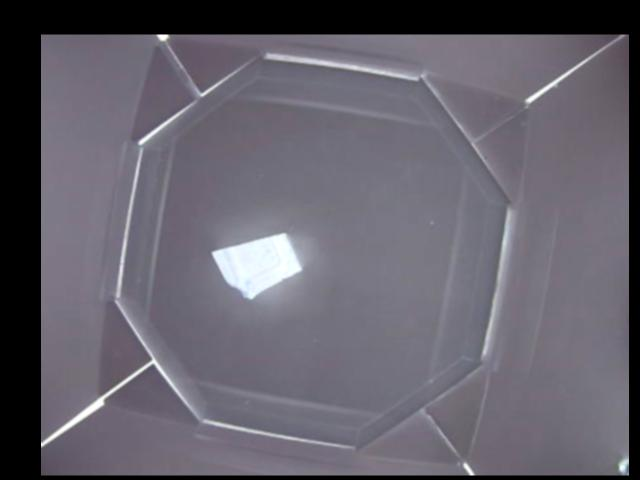China: (210, 232, 302, 302)
